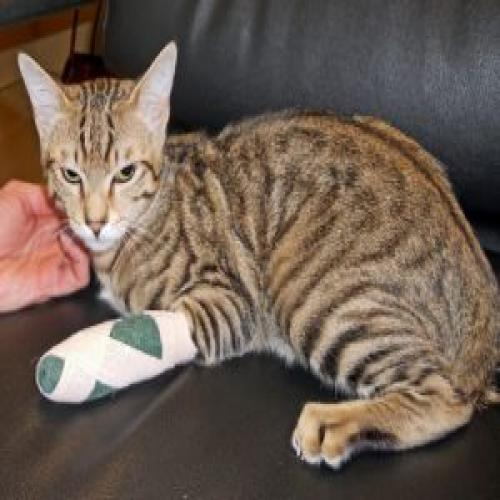bengal: (9, 42, 196, 259)
